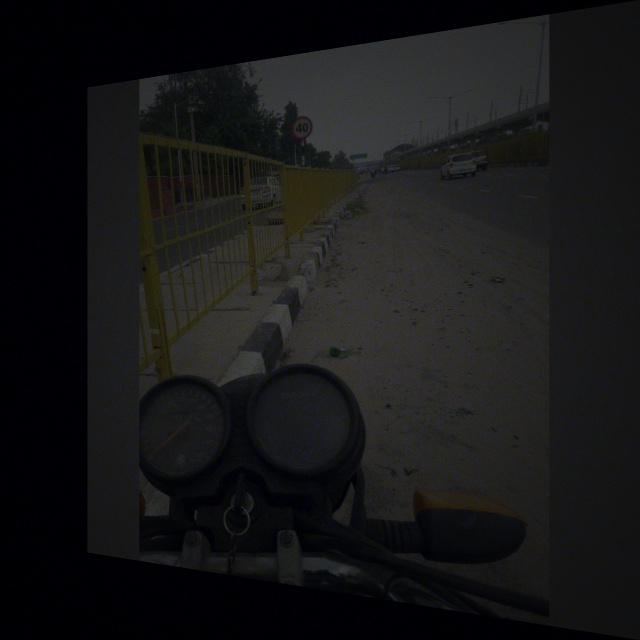Speed_Limit_40: (287, 111, 317, 143)
